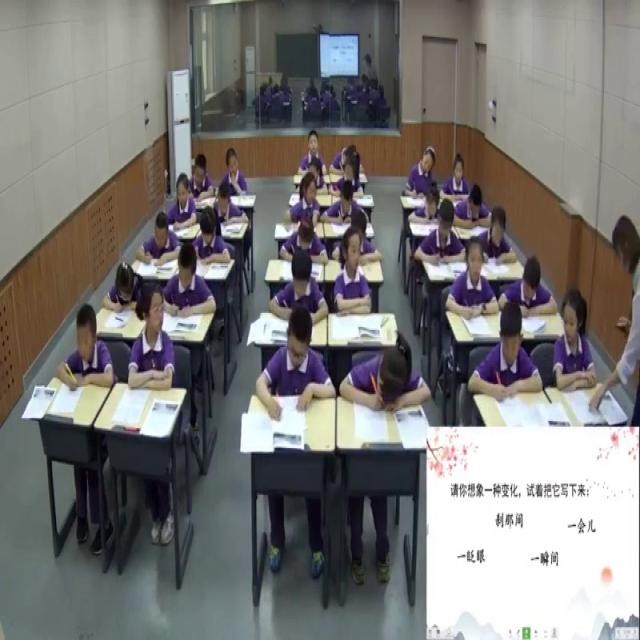distracted: (128, 289, 177, 393), (550, 288, 598, 394), (334, 222, 376, 318), (288, 176, 325, 227)
focused: (256, 308, 336, 414), (340, 338, 434, 426), (466, 302, 540, 401), (270, 244, 331, 334), (57, 304, 116, 394), (160, 244, 218, 322), (448, 241, 498, 317), (498, 254, 558, 316), (414, 205, 463, 270), (192, 203, 232, 270), (282, 218, 332, 270), (478, 209, 518, 270), (321, 180, 369, 230), (135, 215, 178, 268), (329, 152, 368, 208), (450, 182, 492, 234), (161, 173, 196, 232), (101, 264, 143, 313), (292, 125, 326, 184), (406, 145, 438, 197), (410, 190, 450, 230), (219, 142, 248, 197), (444, 152, 474, 203), (213, 183, 244, 227), (329, 140, 361, 176), (188, 158, 214, 201)
